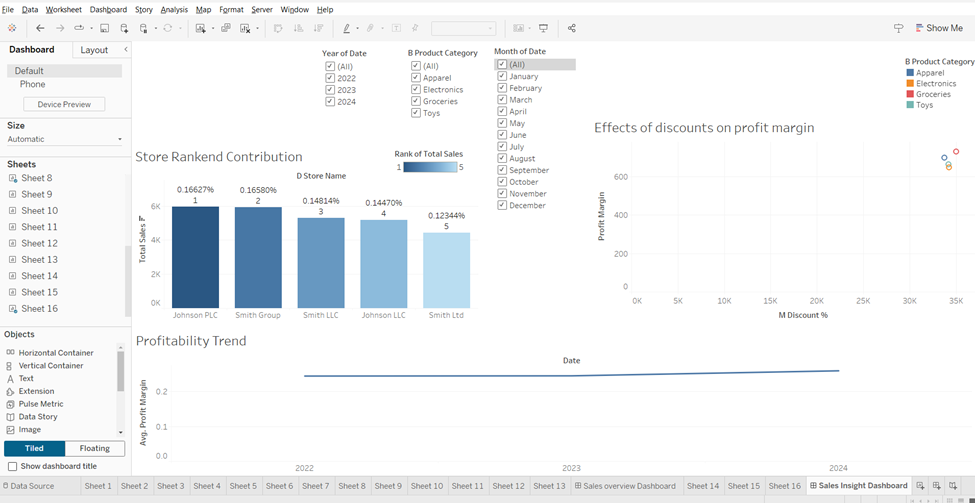

What the dashboard file says about the page in this screenshot:
{"tool":"tableau","page":{"name":"Sales Insight Dashboard","canvas":[1000,1000],"units":"permille","ordinal":0},"visuals":[{"type":"filter","title":"Sheet 16","param":"[federated.0xipwu802nlsml1asru9u07sh26r].[mn:Calculation_1534601595034374148:ok]","box":[428.5,10.6,96.6,384.2]},{"type":"filter","title":"Sheet 16","param":"[federated.0xipwu802nlsml1asru9u07sh26r].[none:B_Product_Category:nk]","box":[326.5,14.1,96.6,168]},{"type":"filter","title":"Sheet 16","param":"[federated.0xipwu802nlsml1asru9u07sh26r].[yr:Calculation_1534601595034374148:ok]","box":[225.1,15.3,96.6,202.1]},{"type":"legend","title":"Sheet 8","param":"[federated.0xipwu802nlsml1asru9u07sh26r].[none:B_Product_Category:nk]","box":[914.3,34.1,84.5,124.6]},{"type":"worksheet","title":"Sheet 8","mark":"Automatic","rows":["Calculation_1534601595032039427"],"cols":["M_Discount_%"],"box":[544.4,172.7,452.6,478.3]},{"type":"worksheet","title":"Sheet 4","mark":"Automatic","rows":["Calculation_1534601595031212032"],"cols":["D_Store_Name"],"box":[1.8,239.7,408,404.2]},{"type":"legend","title":"Sheet 4","param":"[federated.0xipwu802nlsml1asru9u07sh26r].[rank:sum:Calculation_15346015950312120","box":[310.8,246.8,84.5,103.4]},{"type":"worksheet","title":"Sheet 16","mark":"Automatic","rows":["Calculation_1534601595032039427"],"cols":["Calculation_1534601595034374148"],"box":[2.4,663.9,991,332.6]}]}

Visuals, with their boxes on the dashboard's canvas, which has no fixed pixel size, in thousandths of its width and height (x1, y1, x2, y2). These are canvas units, not pixel positions in the 975x503 screenshot, which may show the page scaled, cropped or inside an application window:
"Sheet 16" filter: (428, 11, 525, 395)
"Sheet 16" filter: (326, 14, 423, 182)
"Sheet 16" filter: (225, 15, 322, 217)
"Sheet 8" legend: (914, 34, 999, 159)
"Sheet 8" worksheet: (544, 173, 997, 651)
"Sheet 4" worksheet: (2, 240, 410, 644)
"Sheet 4" legend: (311, 247, 395, 350)
"Sheet 16" worksheet: (2, 664, 993, 996)
